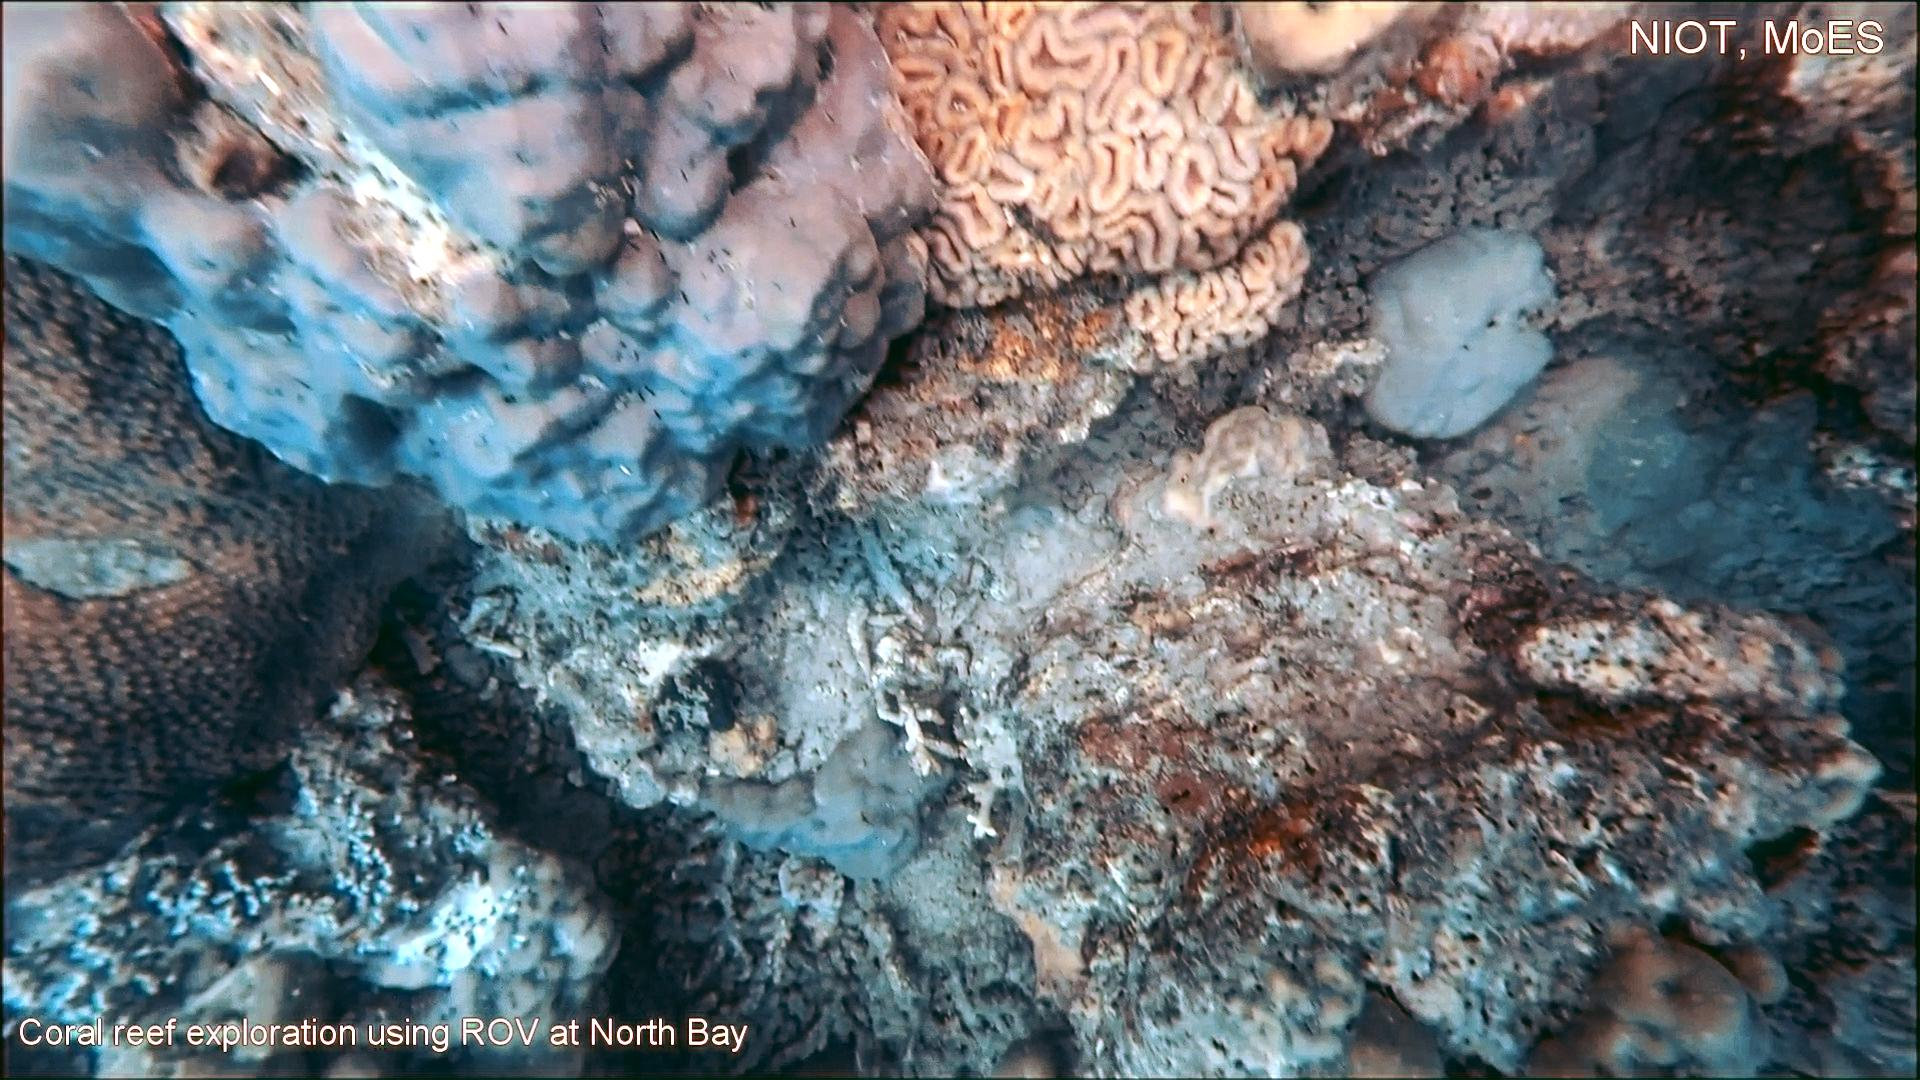Lobophyllia: (864, 0, 1350, 375)
